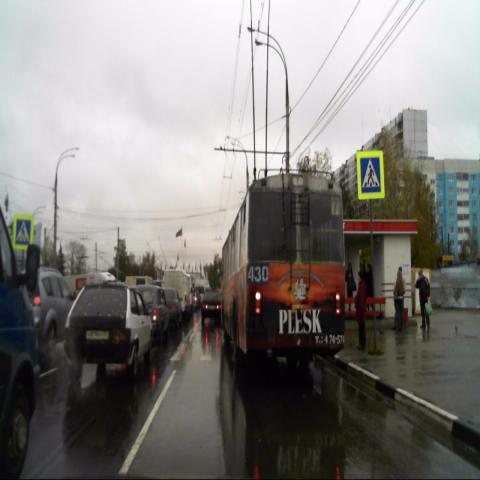5_19_1: (357, 149, 384, 200), (12, 210, 34, 250)
